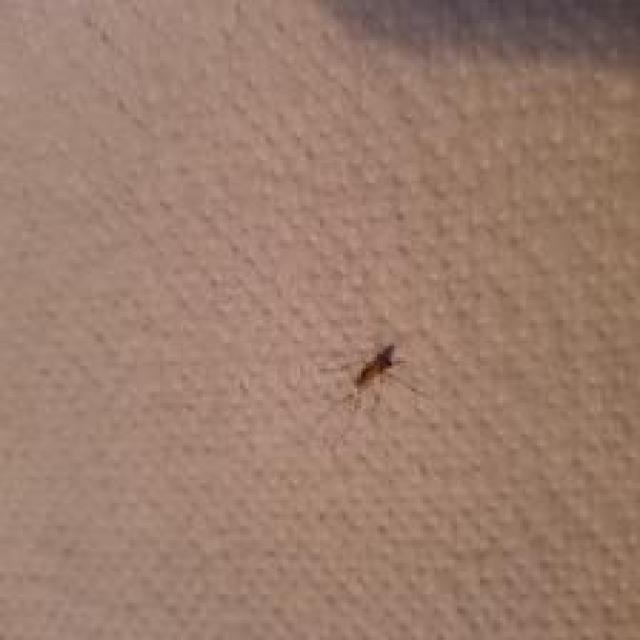Culex: (320, 341, 426, 416)
